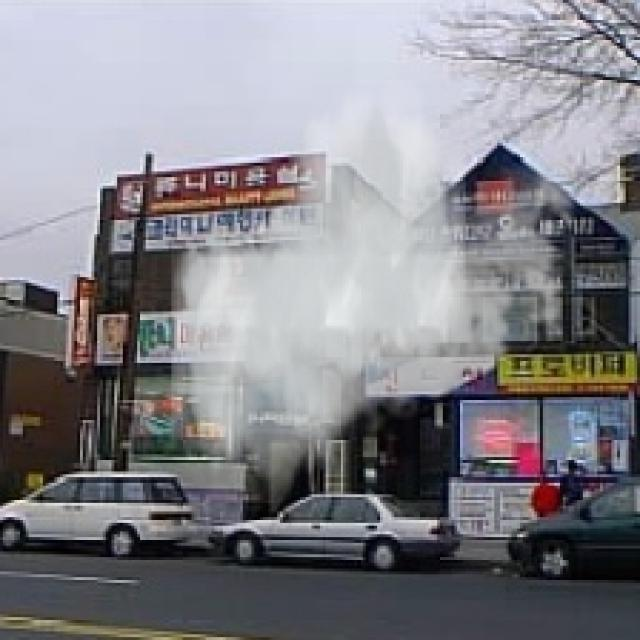Smoke: (172, 80, 588, 503)
